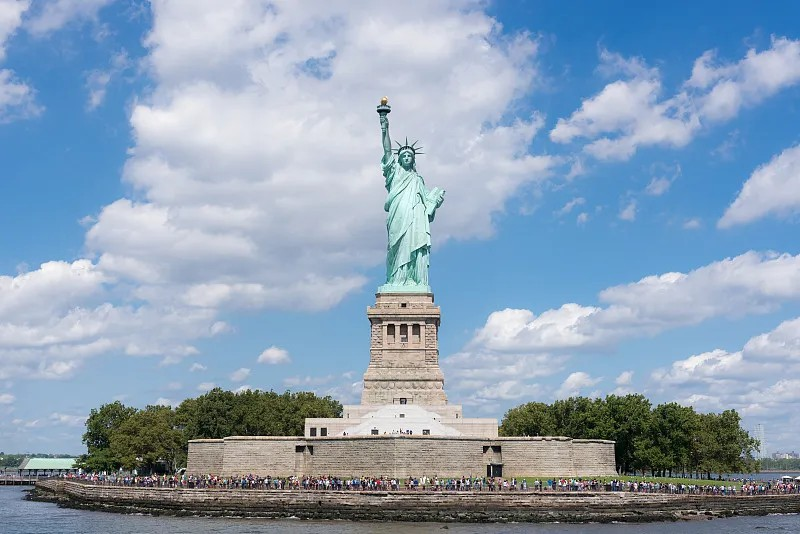SL: (361, 96, 448, 405)
